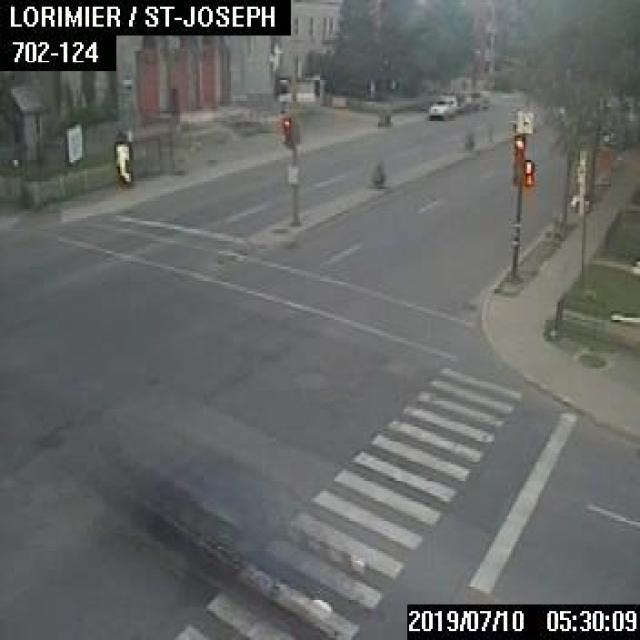vehicle: (426, 94, 456, 118), (455, 92, 471, 112), (471, 90, 486, 110)
